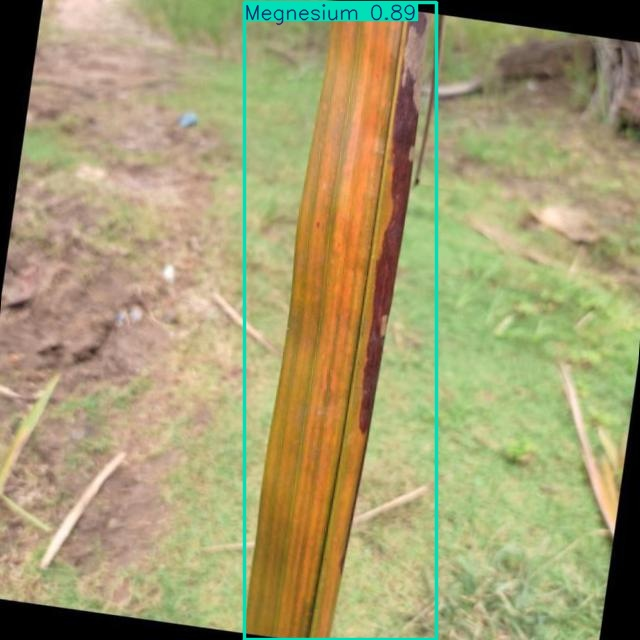Megnesium: (244, 2, 436, 640)
